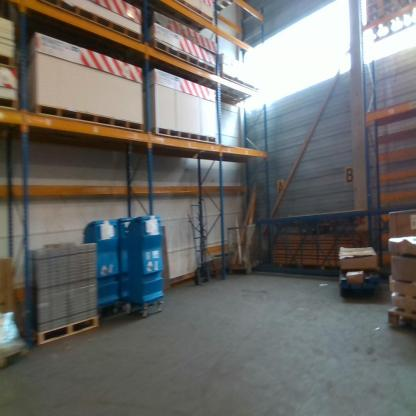pallet: (27, 309, 100, 349), (366, 1, 399, 25), (366, 1, 393, 15)
